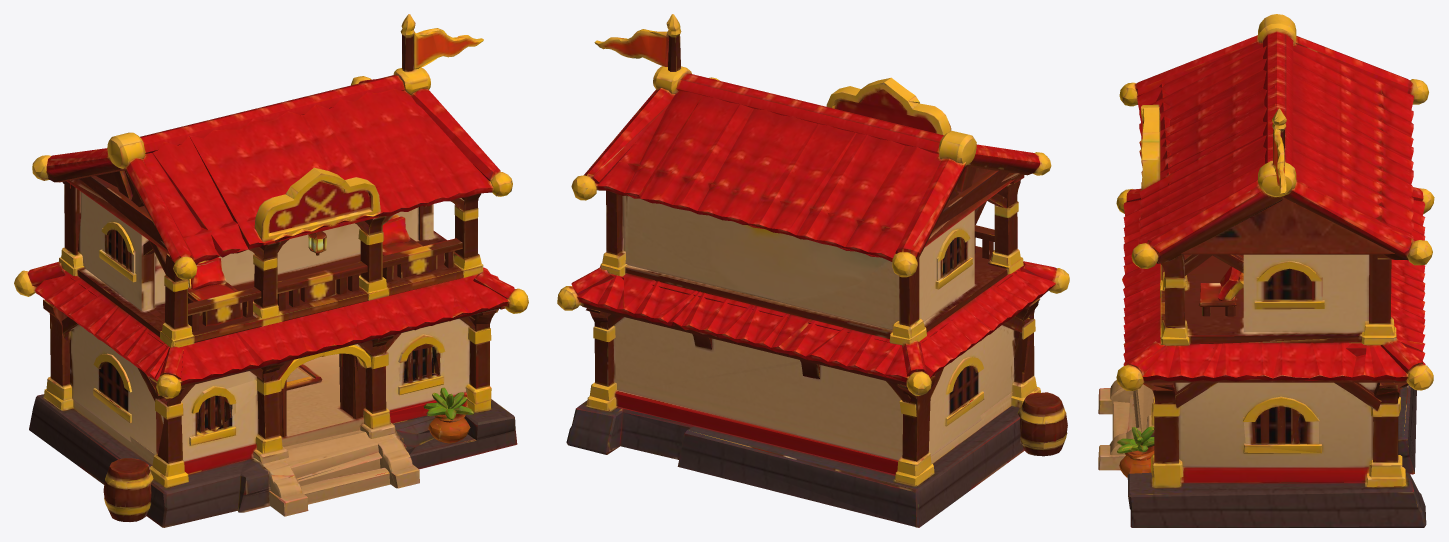
The model's file is commander_quarters.glb.
3 views of the same model, side by side, from view 1: azimuth 30°, elevation 25°; view 2: azimuth 150°, elevation 25°; view 3: azimuth 270°, elevation 25° (orthographic). The views are drawn at different scales.
Parts seen in each view (by area): view 1: mesh_000; view 2: mesh_000; view 3: mesh_000.
Boxes of the visible parts, x1,y1,x2,y2 form: mesh_000: (14, 14, 528, 527); mesh_000: (557, 14, 1069, 527); mesh_000: (1098, 14, 1434, 527).
Bounding box in the file's own units: 0.9575 × 0.8433 × 0.6377.
1 material, 1 textured.
